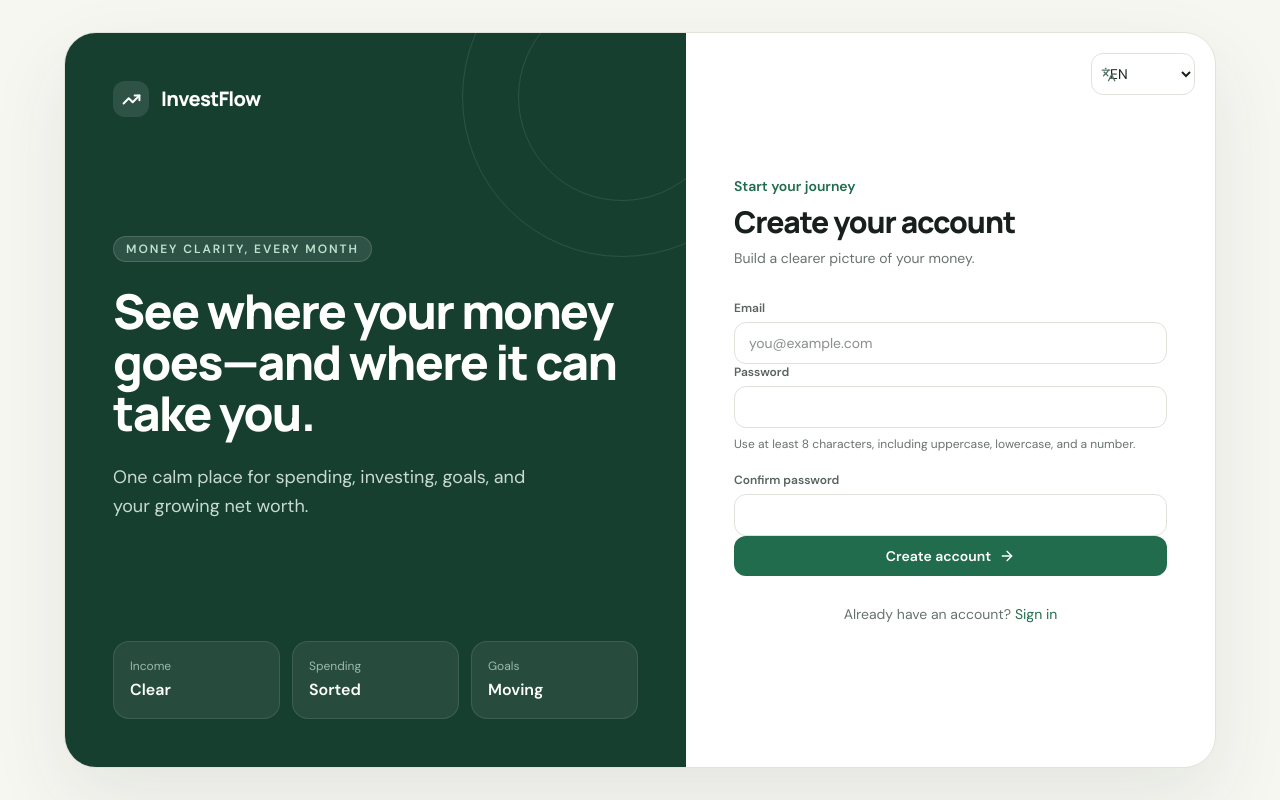
it: RegisterPage › does not submit when password confirmation differs
In the field labelled "Email": (950, 343) x1=734 y1=322 x2=1167 y2=364, type "person@example.com"
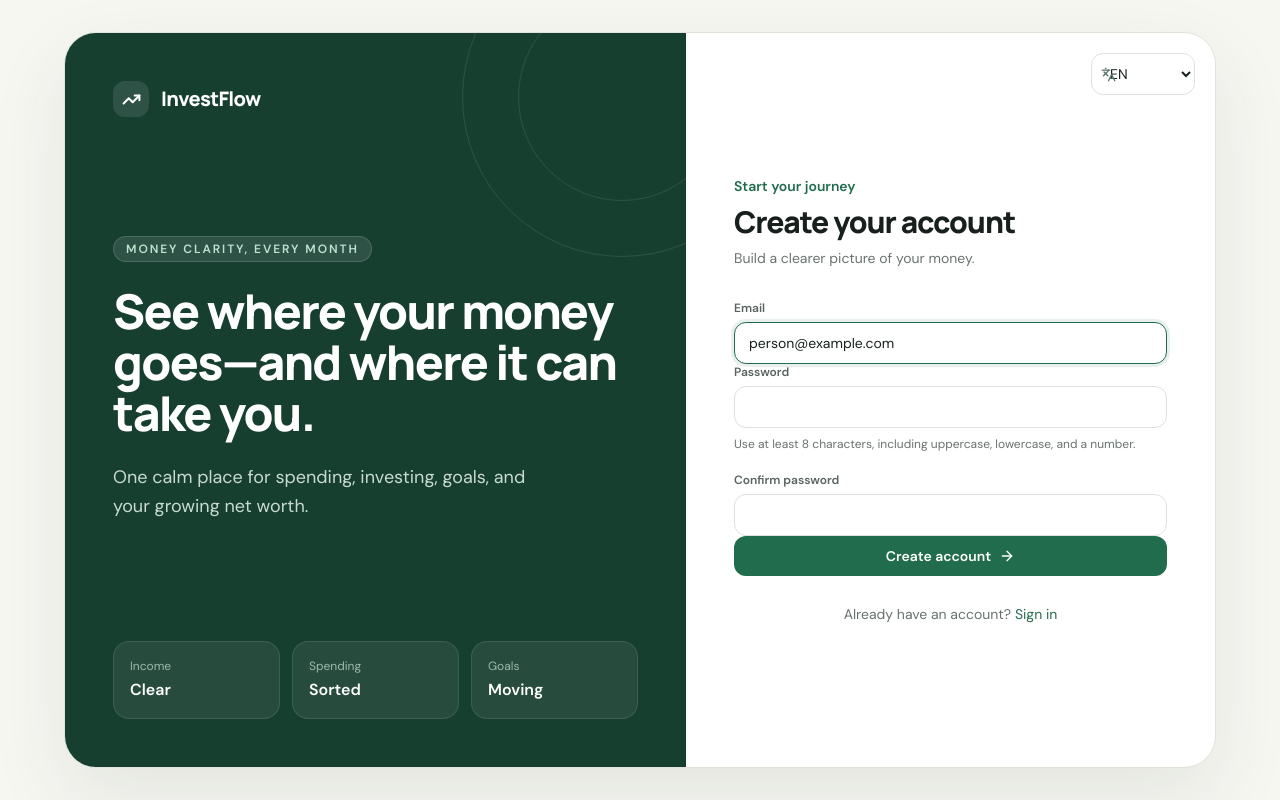
In the password field labelled "Password": (950, 407) x1=734 y1=386 x2=1167 y2=428, type "Password123"
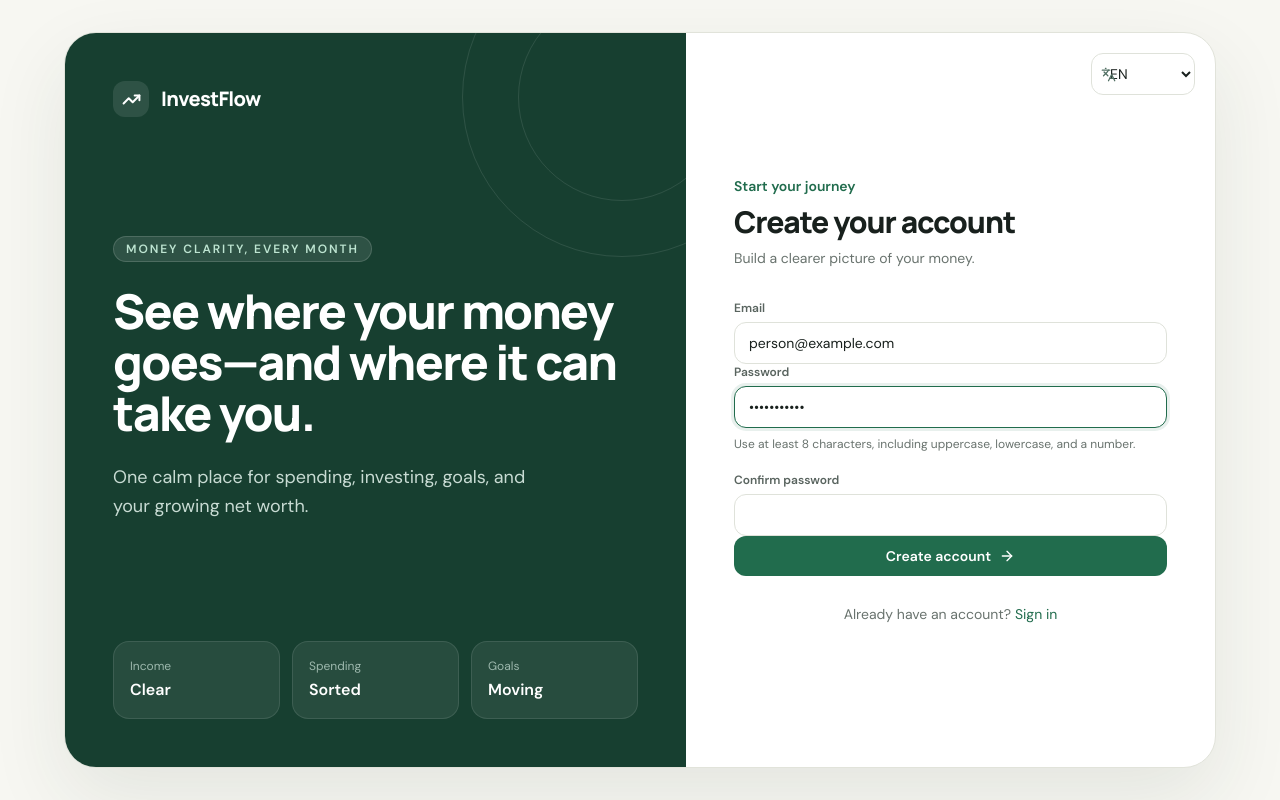
In the password field labelled "Confirm password": (950, 515) x1=734 y1=494 x2=1167 y2=536, type "Password456"
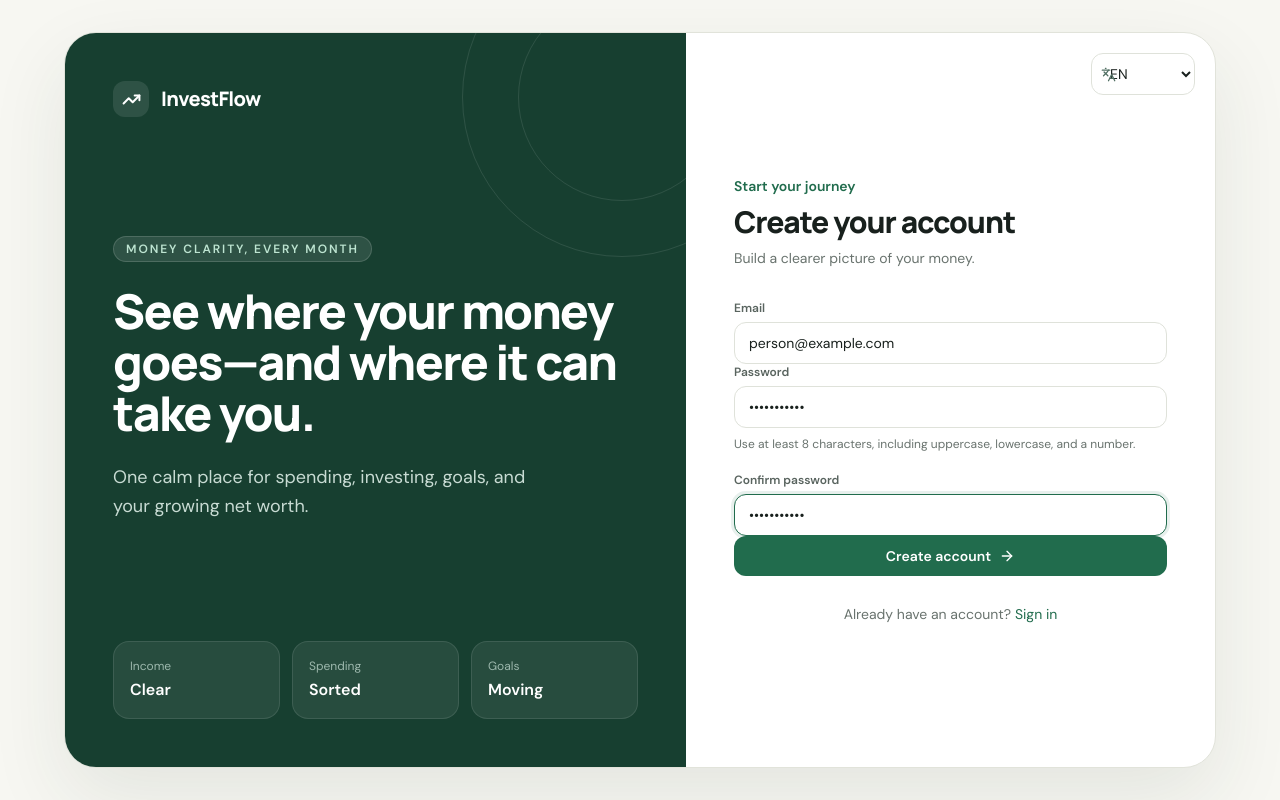
Click the button "Create account": (950, 556) x1=734 y1=536 x2=1167 y2=576
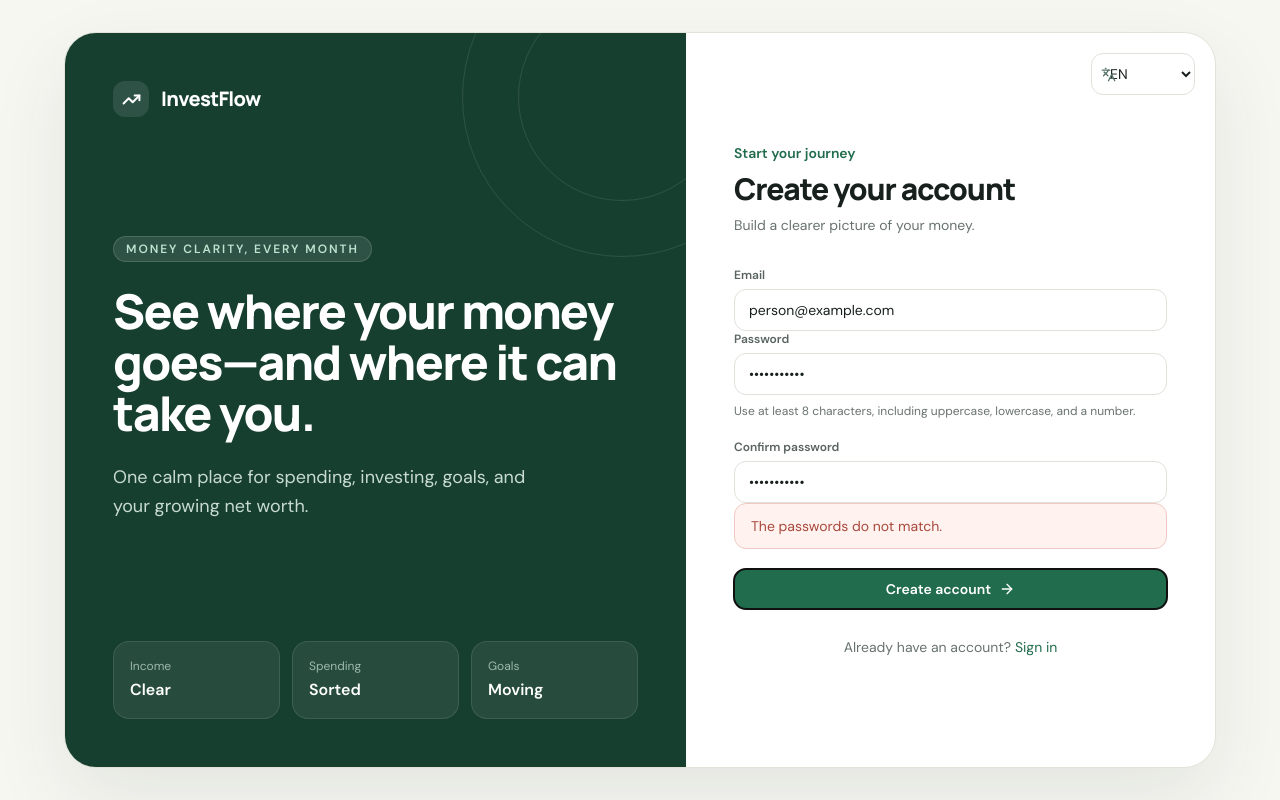
Expected: the message reads "The passwords do not match.", x1=751 y1=517 x2=942 y2=535
